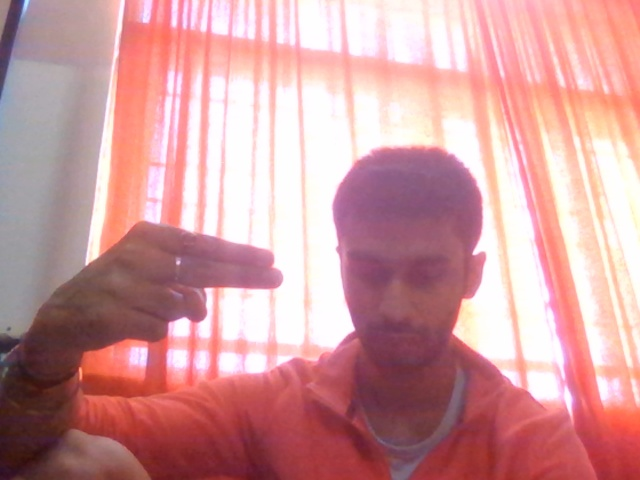H: (15, 207, 313, 391)
